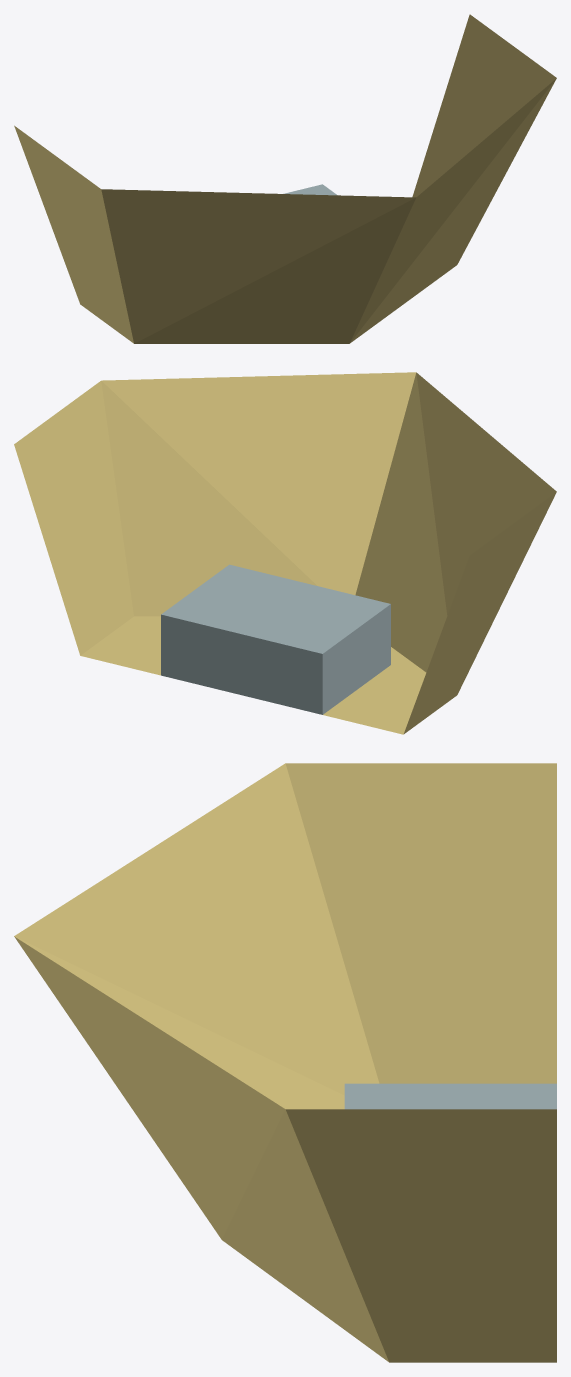
The model's file is i_lampW.glb.
3 views of the same model, one above another, from view 1: azimuth 30°, elevation 25°; view 2: azimuth 150°, elevation 25°; view 3: azimuth 270°, elevation 25° (orthographic). The views are drawn at different scales.
Bounding box in the file's own units: 0.2266 × 0.0928 × 0.1503.
